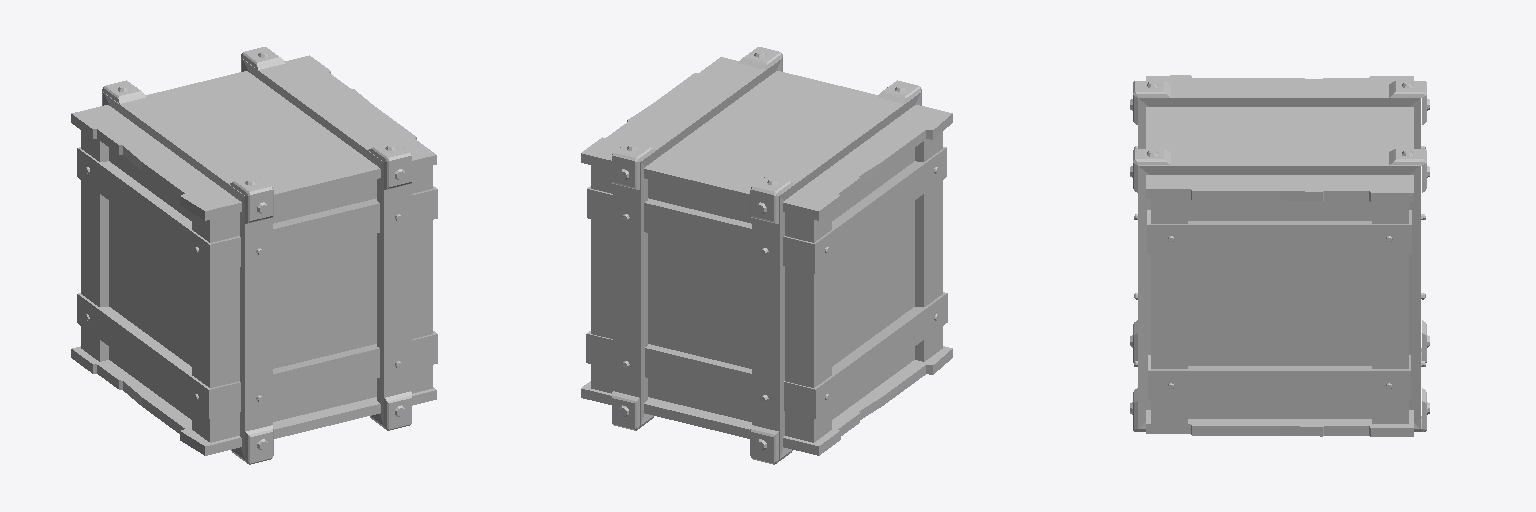
The model's file is Crate_Wooden.obj.
3 views of the same model, side by side, from view 1: azimuth 30°, elevation 25°; view 2: azimuth 150°, elevation 25°; view 3: azimuth 270°, elevation 25° (orthographic).
Visible parts, largest first — view 1: Crate_Wooden_Cube.017; view 2: Crate_Wooden_Cube.017; view 3: Crate_Wooden_Cube.017.
Part boxes in pixels (x1,y1,x2,y2): Crate_Wooden_Cube.017: (71, 47, 437, 464); Crate_Wooden_Cube.017: (581, 47, 952, 464); Crate_Wooden_Cube.017: (1130, 75, 1429, 436).
Size of the model in its own units: 0.8423 by 0.9309 by 0.9083.